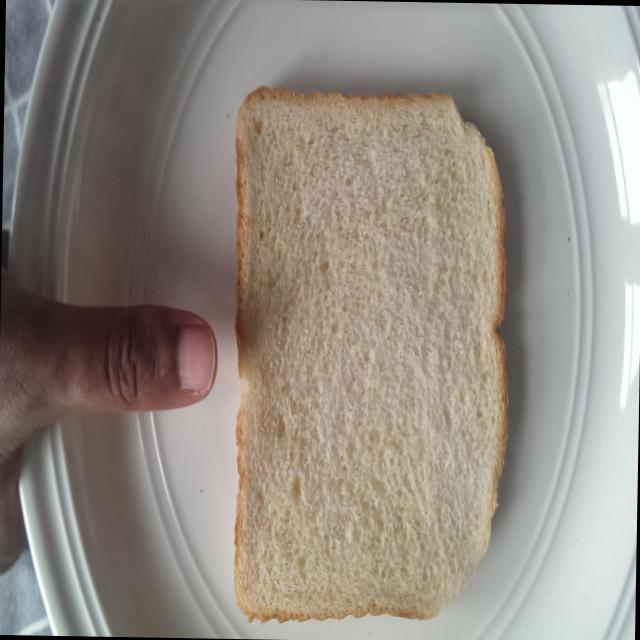Bread: (226, 70, 520, 634)
Finger: (84, 291, 226, 424)
